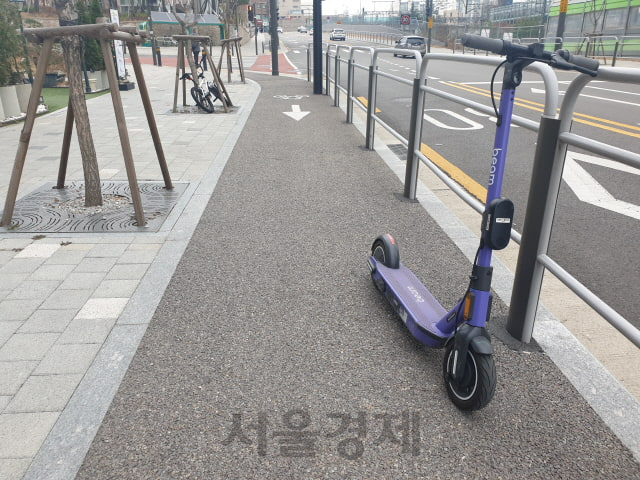scooter: (367, 33, 598, 411)
